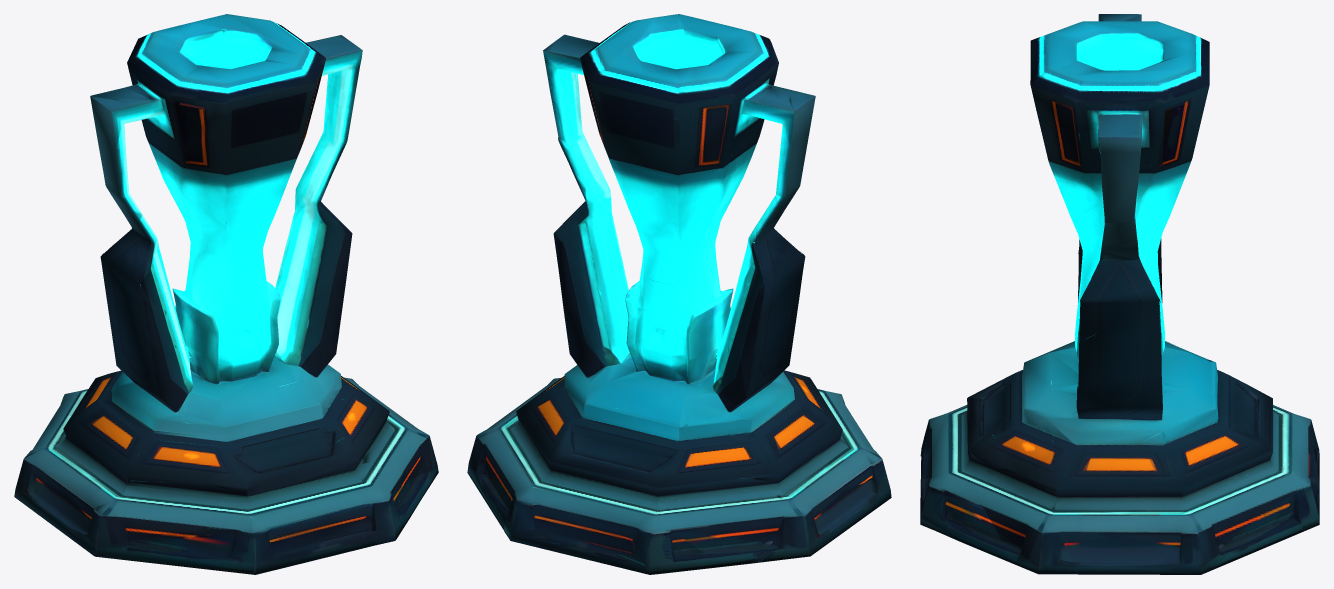
The picture shows the model from 3 angles, left to right: view 1: azimuth 30°, elevation 25°; view 2: azimuth 150°, elevation 25°; view 3: azimuth 270°, elevation 25°; orthographic projection.
Bounding box in the file's own units: 1.56 × 1.9 × 1.57.
1 material, 1 textured.
